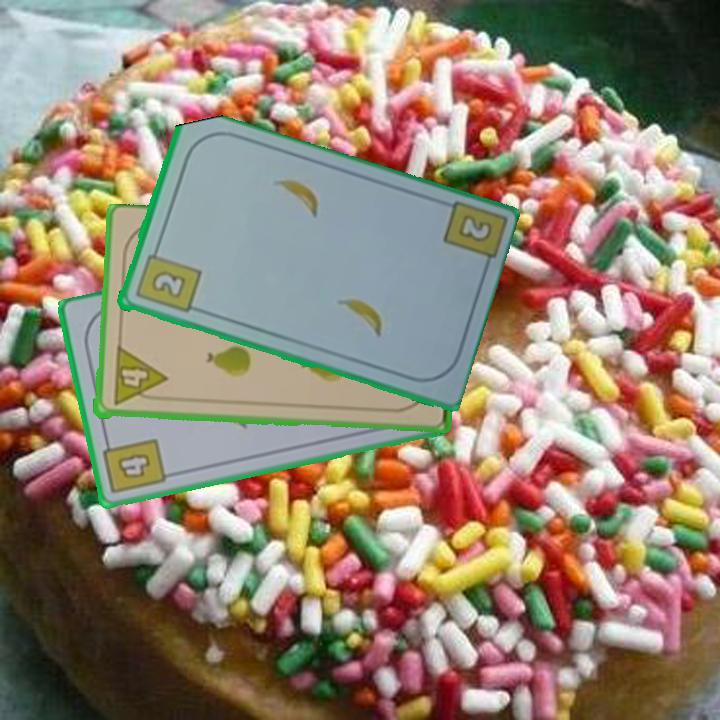2b: (131, 243, 203, 316), (438, 198, 505, 275)
4b: (100, 434, 169, 498)
4p: (110, 345, 168, 409)
